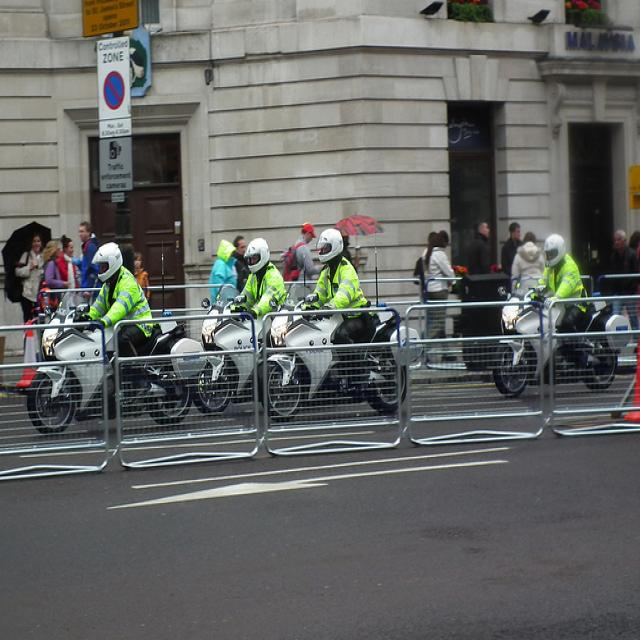motor: (27, 303, 206, 437), (267, 293, 407, 421), (494, 285, 638, 403), (197, 296, 265, 415)
